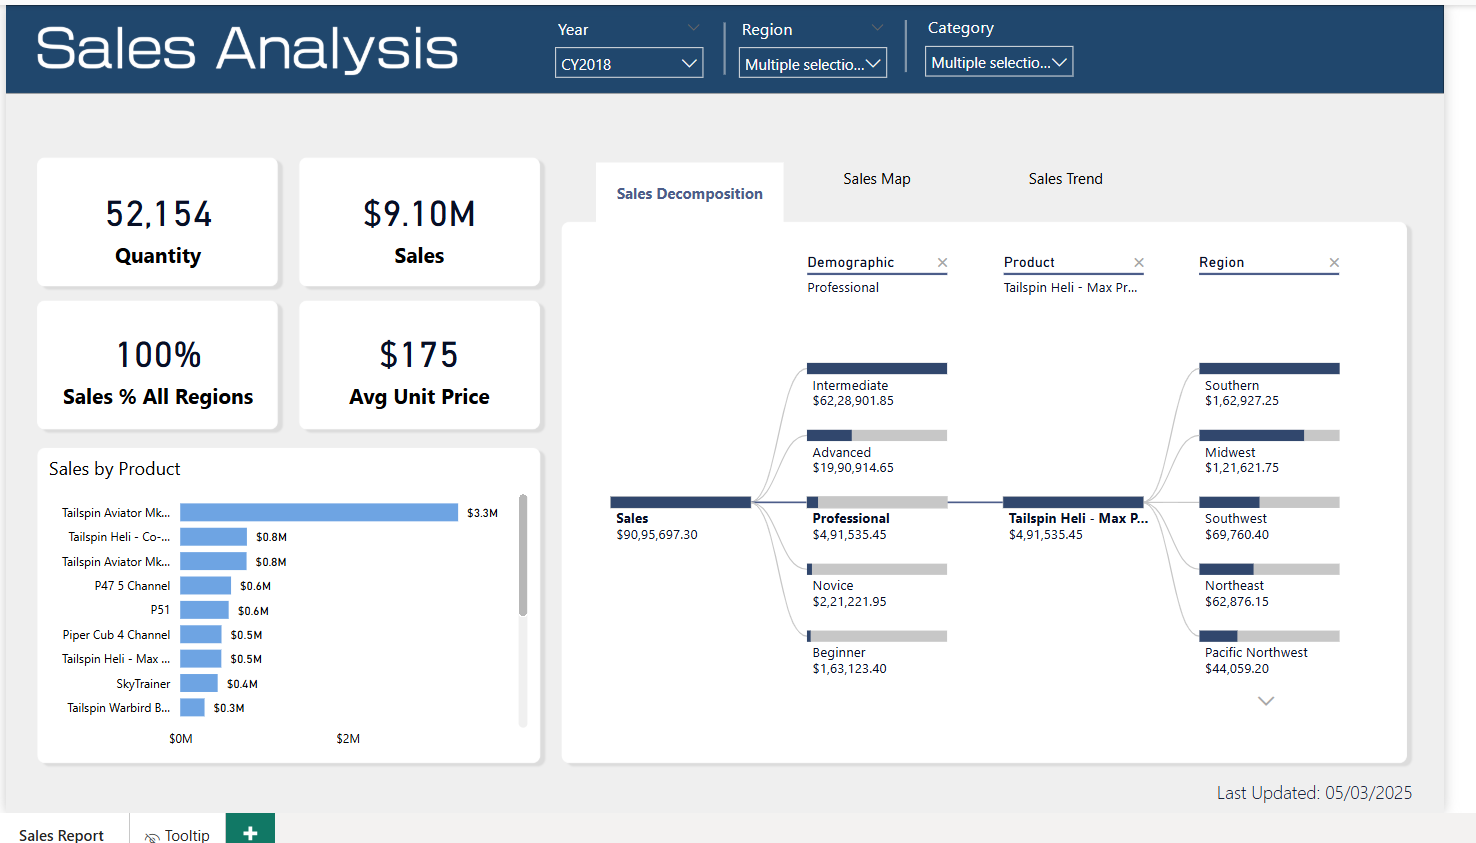

Layout of this report page (visuals, bound fields, positions):
{"tool":"powerbi","page":{"name":"Sales Report","canvas":[1280,720],"ordinal":0},"visuals":[{"type":"slicer","title":"Slicer (Year)","fields":{"Values":["Date.Year"]},"box":[478.9,5.6,152.2,61.1],"z":0,"group":"g5"},{"type":"actionButton","title":"Button Active (Sales Decomposition)","box":[525.3,140.6,167,54.3],"z":0,"group":"g2"},{"type":"decompositionTreeVisual","title":"Summary (Sales Decomposition)","fields":{"Analyze":["Sum(Sales.Sales)"],"ExplainBy":["Product.Demographic","Product.Product","Region.Region"]},"box":[508.9,204.4,718.9,456.7],"z":0,"group":"g4"},{"type":"card","title":"Card (Avg Unit Price)","fields":{"Values":["Avg(Sales.Unit Price)"]},"box":[265,268,204.4,107.8],"z":0,"group":"g1"},{"type":"textbox","title":"Label: Last updated","box":[1045.6,684.4,212.2,35.6],"z":0},{"type":"slicer","title":"Slicer (Region)","fields":{"Values":["Region.Region"]},"box":[642.2,5.6,152.2,61.1],"z":1000,"group":"g5"},{"type":"actionButton","title":"Button Inactive (Sales Map)","box":[692.5,141.5,167,54.3],"z":1000,"group":"g3"},{"type":"group","id":"g1","title":"Cards","box":[32.9,141.7,436.5,234.2],"z":1000},{"type":"card","title":"Card (Qty)","fields":{"Values":["Sum(Sales.Quantity)"]},"box":[32.9,141.7,204.4,107.8],"z":1000,"group":"g1"},{"type":"slicer","title":"Slicer (Category)","fields":{"Values":["Product.Category"]},"box":[807.9,4.4,152.2,61.1],"z":2000,"group":"g5"},{"type":"actionButton","title":"Button Inactive (Sales Trend)","box":[860.6,141.5,167,54.3],"z":2000,"group":"g3"},{"type":"card","title":"Card (Sales % Regions)","fields":{"Values":["Sales.Sales % All Regions"]},"box":[32.9,268,204.4,107.8],"z":2000,"group":"g1"},{"type":"barChart","title":"Sales by Product","fields":{"Category":["Product.Product"],"Y":["Sum(Sales.Sales)"]},"box":[32.9,400.6,436.5,270.1],"z":2000},{"type":"shape","box":[624.5,15.6,31.1,46.7],"z":3000,"group":"g5"},{"type":"group","id":"g2","title":"Buttons (Active)","box":[525.3,140.6,501.1,54.3],"z":3000},{"type":"card","title":"Card (Sales)","fields":{"Values":["Sum(Sales.Sales)"]},"box":[265,141.7,204.4,107.8],"z":3000,"group":"g1"},{"type":"shape","box":[786.7,13.4,31.1,46.7],"z":4000,"group":"g5"},{"type":"group","id":"g3","title":"Buttons (Inactive)","box":[525.5,141.5,502.1,54.3],"z":4000},{"type":"group","id":"g4","title":"Summaries","box":[504.4,204,723.4,457.1],"z":5000},{"type":"group","id":"g5","title":"Slicers","box":[478.9,4.4,481.1,62.2],"z":6000}]}

Visuals, with their boxes on the page's 1280x720 design canvas (x1, y1, x2, y2). These are canvas units, not pixel positions in the 1476x843 screenshot, which may show the page scaled, cropped or inside an application window:
"Slicer (Year)" slicer: detection(479, 6, 631, 67)
"Button Active (Sales Decomposition)" actionButton: detection(525, 141, 692, 195)
"Summary (Sales Decomposition)" decompositionTreeVisual: detection(509, 204, 1228, 661)
"Card (Avg Unit Price)" card: detection(265, 268, 469, 376)
"Label: Last updated" textbox: detection(1046, 684, 1258, 720)
"Slicer (Region)" slicer: detection(642, 6, 794, 67)
"Button Inactive (Sales Map)" actionButton: detection(692, 142, 860, 196)
"Cards" group: detection(33, 142, 469, 376)
"Card (Qty)" card: detection(33, 142, 237, 250)
"Slicer (Category)" slicer: detection(808, 4, 960, 66)
"Button Inactive (Sales Trend)" actionButton: detection(861, 142, 1028, 196)
"Card (Sales % Regions)" card: detection(33, 268, 237, 376)
"Sales by Product" barChart: detection(33, 401, 469, 671)
shape: detection(624, 16, 656, 62)
"Buttons (Active)" group: detection(525, 141, 1026, 195)
"Card (Sales)" card: detection(265, 142, 469, 250)
shape: detection(787, 13, 818, 60)
"Buttons (Inactive)" group: detection(526, 142, 1028, 196)
"Summaries" group: detection(504, 204, 1228, 661)
"Slicers" group: detection(479, 4, 960, 67)
